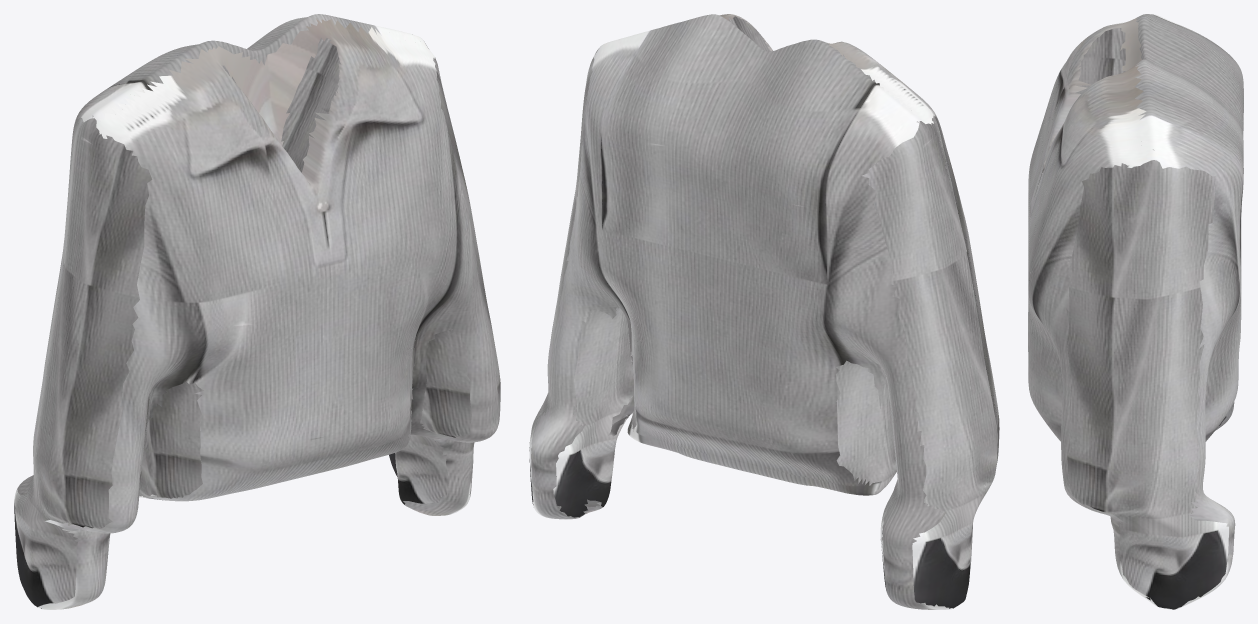
The model's file is NF012-photo-v4.glb.
The picture shows the model from 3 angles, left to right: view 1: azimuth 30°, elevation 25°; view 2: azimuth 150°, elevation 25°; view 3: azimuth 270°, elevation 25°; orthographic projection. The views are drawn at different scales.
Visible parts, largest first — view 1: NF012_worn_photo_fitted; view 2: NF012_worn_photo_fitted; view 3: NF012_worn_photo_fitted.
Boxes of the visible parts, x1,y1,x2,y2 form: NF012_worn_photo_fitted: (14, 14, 500, 609); NF012_worn_photo_fitted: (529, 14, 999, 609); NF012_worn_photo_fitted: (1028, 14, 1243, 609).
Size of the model in its own units: 0.5552 by 0.6386 by 0.2595.
Materials: 3 (3 with a texture image).
